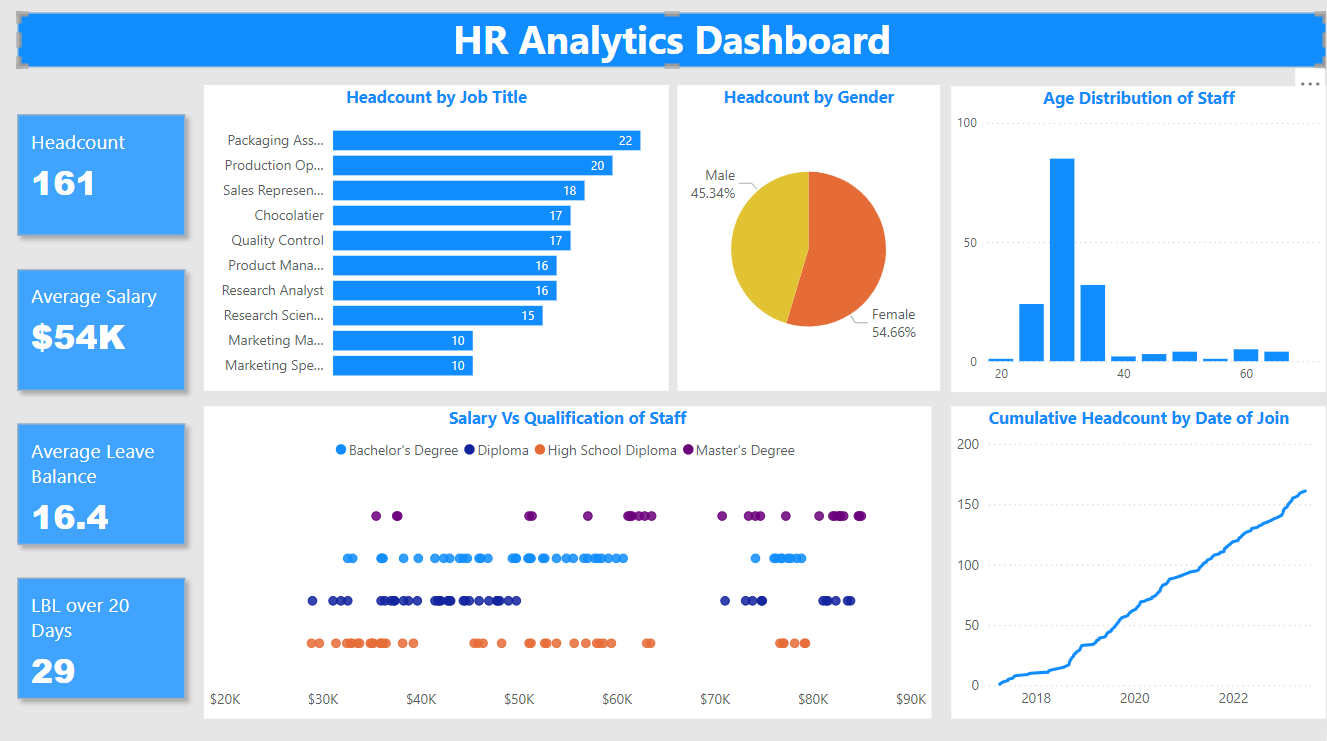

What the dashboard file says about the page in this screenshot:
{"tool":"powerbi","page":{"name":"HR Analytics Dashboard","canvas":[1280,720],"ordinal":0},"visuals":[{"type":"cardVisual","fields":{"Data":["staff.Headcount","staff.Average Salary","staff.Average Leave Balance","staff.LBL over 20 Days"]},"box":[0,78.4,196.6,638.2],"z":0},{"type":"clusteredBarChart","fields":{"Category":["staff.Job Title"],"Y":["staff.Headcount"]},"box":[196.6,86.9,448.8,295.6],"z":1},{"type":"pieChart","fields":{"Category":["staff.Gender"],"Y":["staff.Headcount"]},"box":[653.9,86.9,253.4,295.6],"z":2},{"type":"columnChart","title":"Age Distribution of Staff","fields":{"Y":["staff.Headcount"],"Category":["staff.Age (bins)"]},"box":[918.1,88.1,361.9,295.6],"z":3},{"type":"scatterChart","title":"Salary Vs Qualification of Staff","fields":{"X":["staff.Salary"],"Series":["qual.Qualification"],"Y":["qual.Qualification ID"]},"box":[196.6,396.9,702.1,301.6],"z":4},{"type":"lineChart","fields":{"Y":["staff.Cumulative Headcount"],"Category":["staff.Date of Join"]},"box":[918.1,396.9,361.9,301.6],"z":5},{"type":"shape","title":"HR Analytics Dashboard","box":[16.9,16.9,1263.1,53.1],"z":6}]}

Visuals, with their boxes in screenshot pixels (x1, y1, x2, y2), scaled from the page's 1280x720 canvas onto the 1327x741 screenshot:
cardVisual - staff.Headcount x staff.Average Salary: x1=0, y1=81, x2=204, y2=738
clusteredBarChart - staff.Job Title x staff.Headcount: x1=204, y1=89, x2=669, y2=394
pieChart - staff.Gender x staff.Headcount: x1=678, y1=89, x2=941, y2=394
"Age Distribution of Staff" columnChart: x1=952, y1=91, x2=1326, y2=395
"Salary Vs Qualification of Staff" scatterChart: x1=204, y1=408, x2=932, y2=719
lineChart - staff.Cumulative Headcount x staff.Date of Join: x1=952, y1=408, x2=1326, y2=719
"HR Analytics Dashboard" shape: x1=18, y1=17, x2=1326, y2=72
